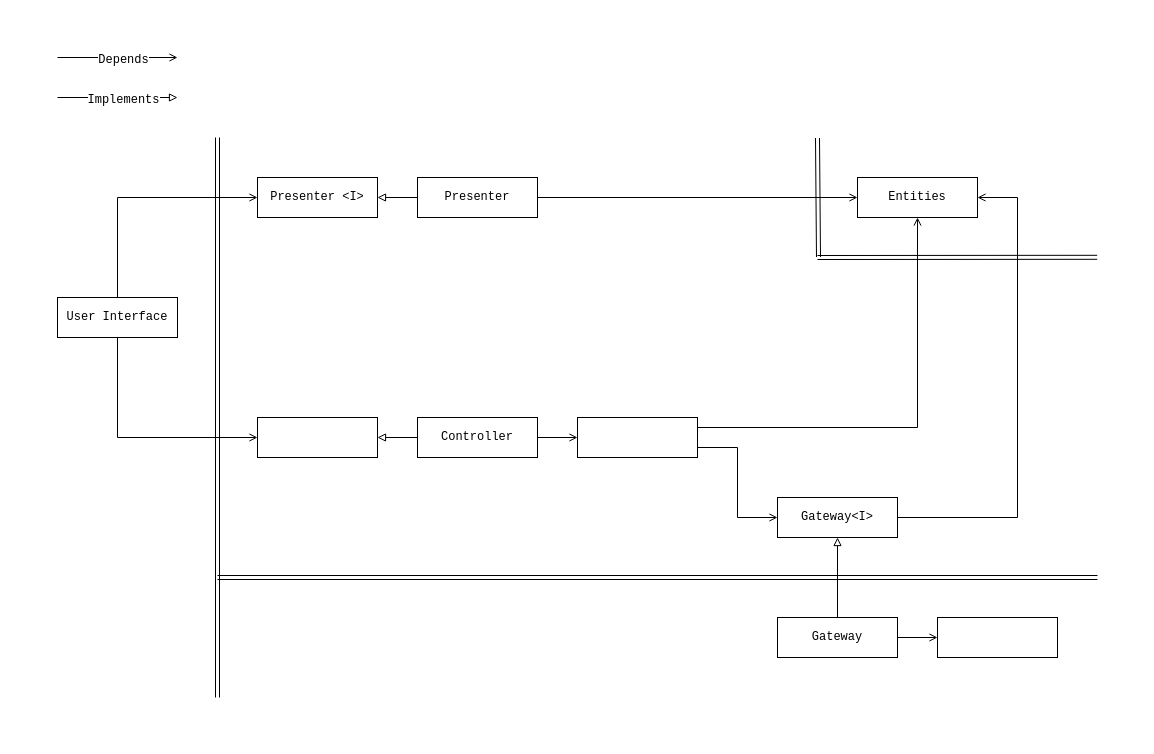
Image size: 1154x754. Some labels were removed from this diagram. The shapes that lost their labels are listed below. From the top down, each one's box as (x1, y1, x2, y2) in pixels, then its label:
(256, 416, 378, 458): Controller <I>
(576, 416, 698, 458): Use Case Interactor
(936, 616, 1058, 658): External Resource
